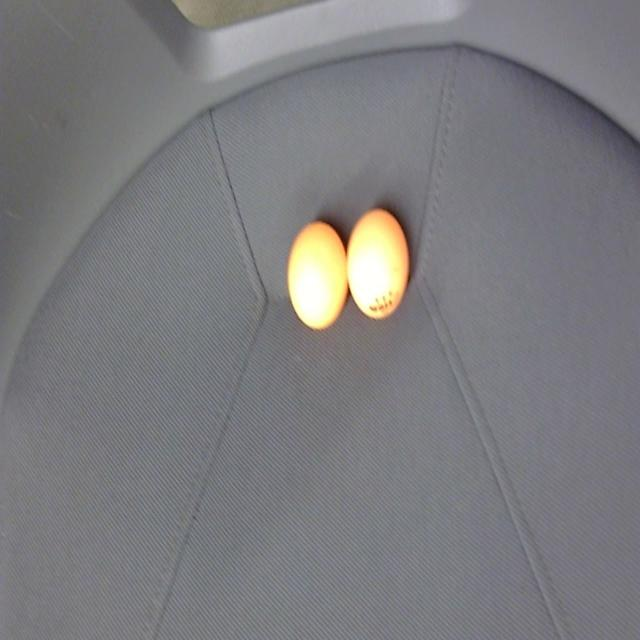ball: (347, 206, 413, 319), (287, 220, 348, 331)
